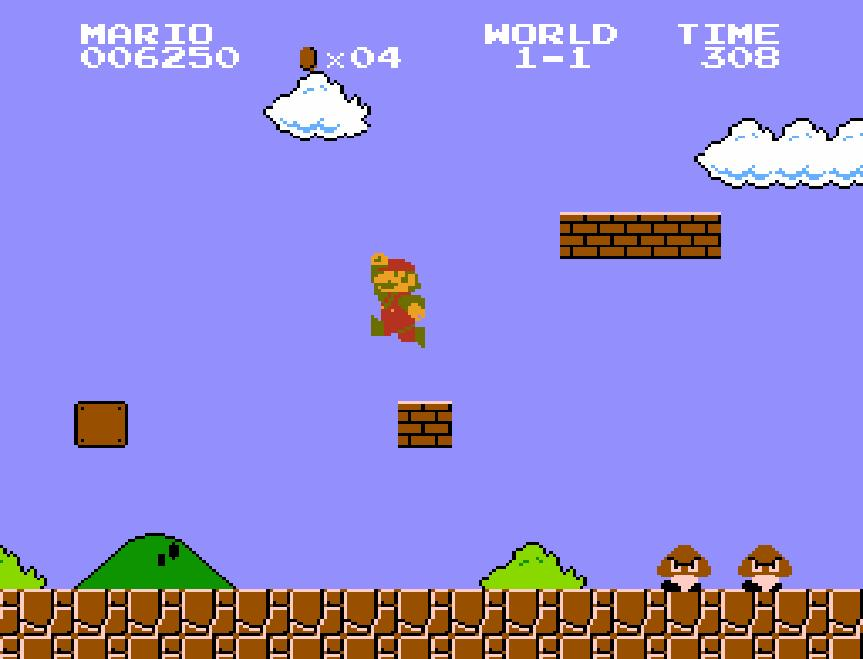big_mario: (368, 251, 426, 349)
